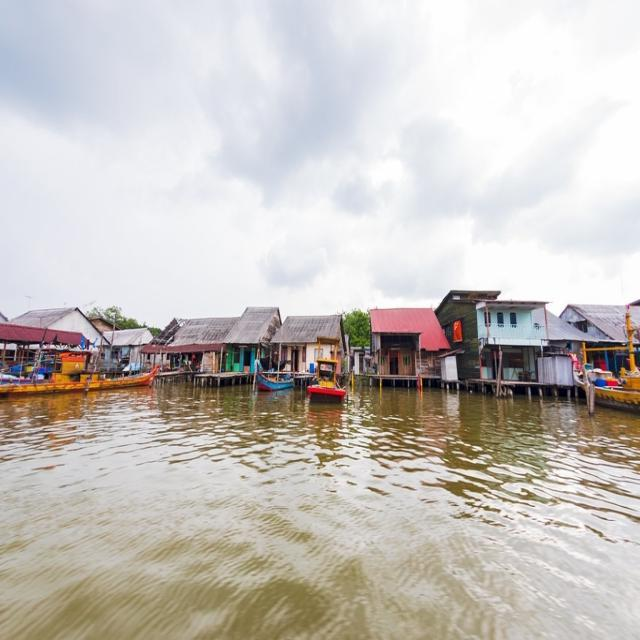boat: (0, 366, 163, 401), (299, 347, 354, 406), (247, 356, 293, 393)
